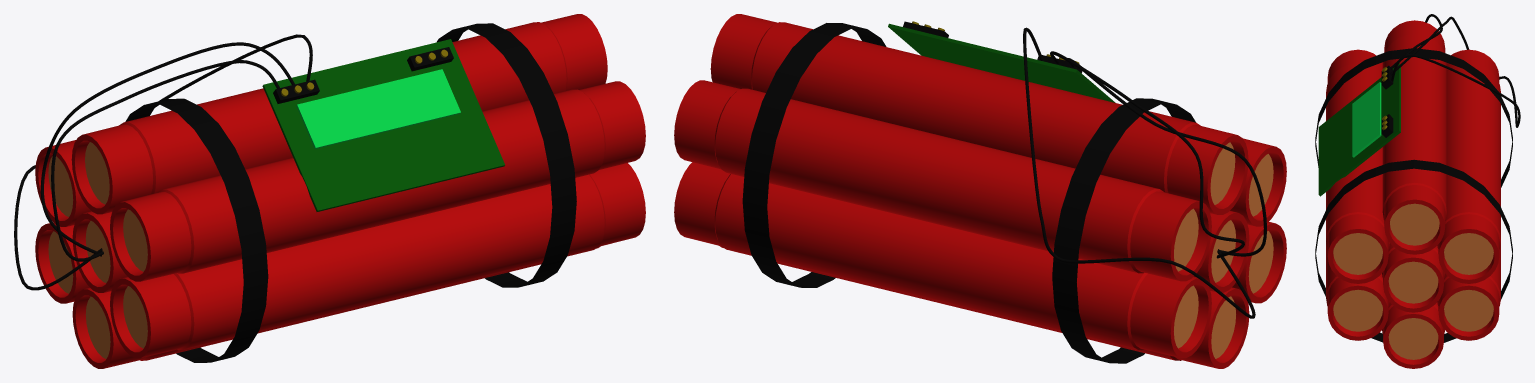
File: Bomba Normal.fbx
3 renders of one model, left to right at view 1: azimuth 30°, elevation 25°; view 2: azimuth 150°, elevation 25°; view 3: azimuth 270°, elevation 25°, orthographic. The views are drawn at different scales.
Visible parts, largest first — view 1: Group Locator; view 2: Group Locator; view 3: Group Locator.
Boxes of the visible parts, x1,y1,x2,y2 form: Group Locator: (14,14,645,368); Group Locator: (674,14,1286,368); Group Locator: (1315,14,1520,368).
Size of the model in its own units: 763 by 394 by 337.
